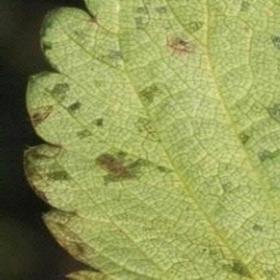Angular Leafspot: (22, 0, 279, 279)
